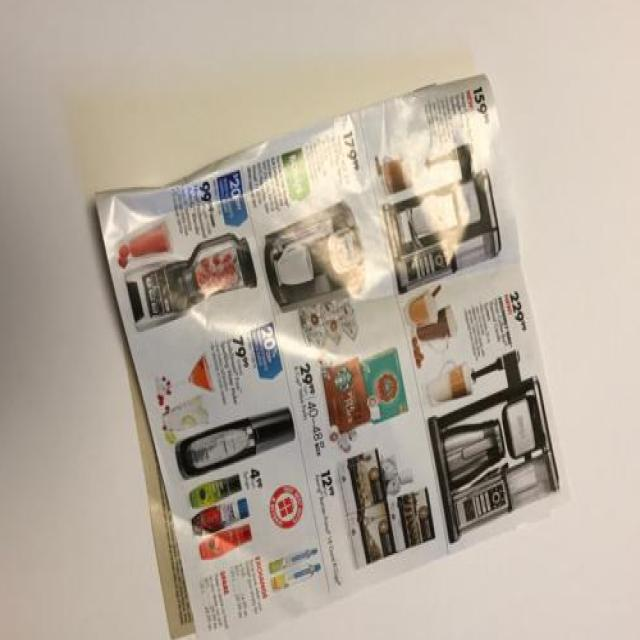kertas: (92, 82, 573, 640)
